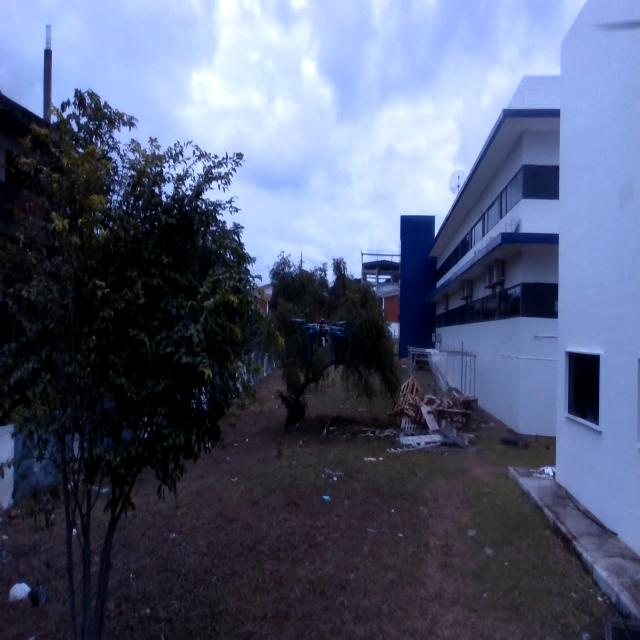-uav-: (282, 301, 370, 379)
